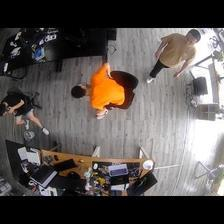normal: (71, 62, 127, 120), (146, 29, 202, 82), (1, 88, 49, 139)
